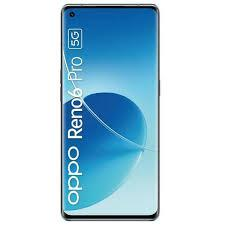Smartphone: (62, 5, 158, 215)
